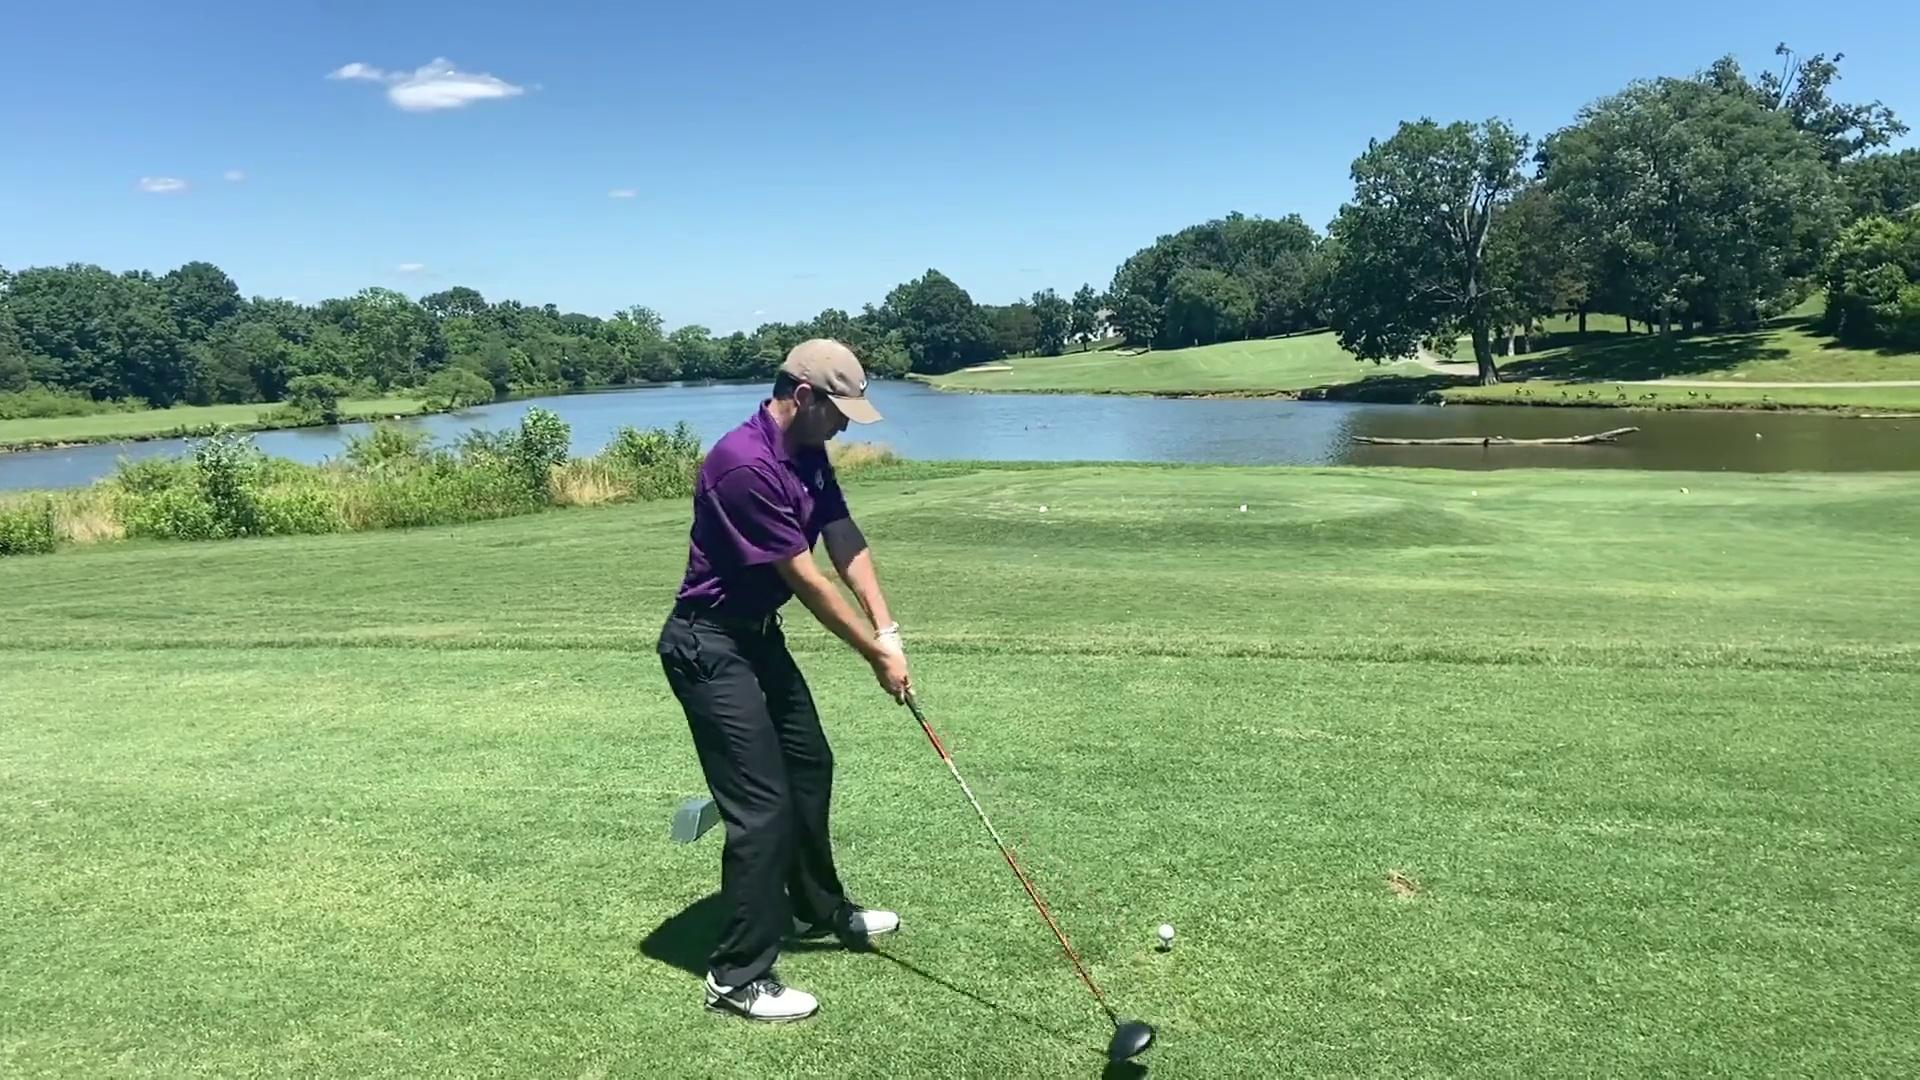ClubHead: (1105, 1007, 1156, 1064)
GolfBall: (1156, 923, 1178, 944)
